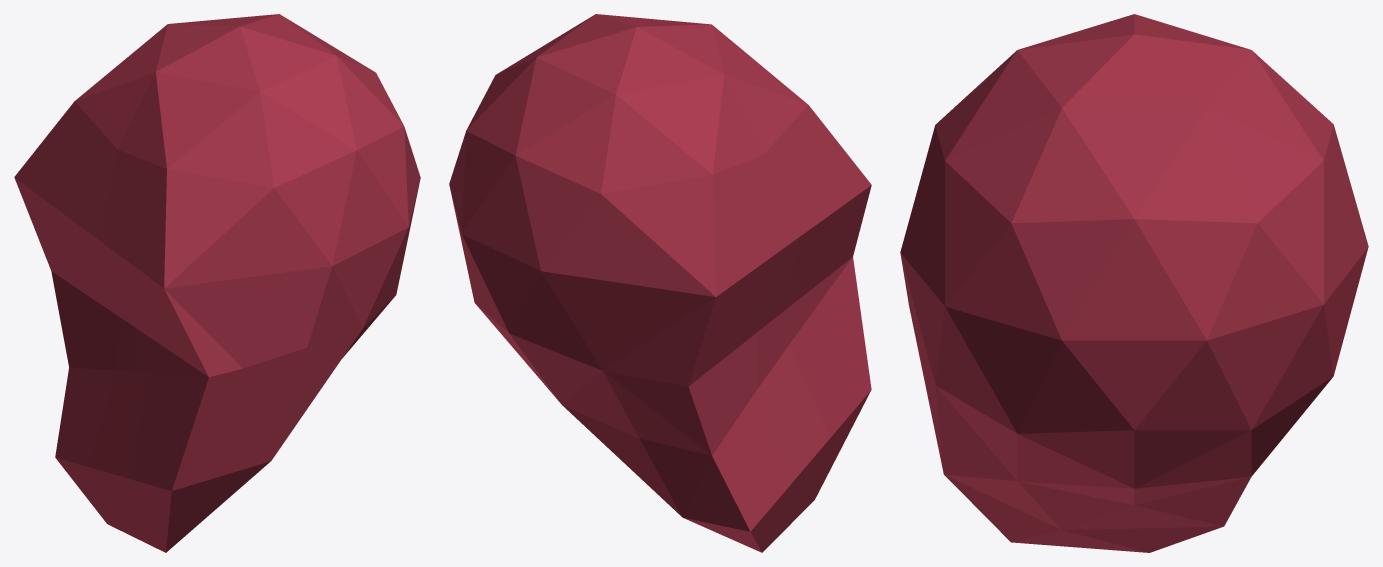
The model's file is Heart_Half.glb.
3 renders of one model, left to right at view 1: azimuth 30°, elevation 25°; view 2: azimuth 150°, elevation 25°; view 3: azimuth 270°, elevation 25°, orthographic. The views are drawn at different scales.
Visible parts, largest first — view 1: Heart_Half; view 2: Heart_Half; view 3: Heart_Half.
Boxes of the visible parts, <box> form: Heart_Half: <box>14,14,420,552</box>; Heart_Half: <box>449,14,871,552</box>; Heart_Half: <box>900,14,1368,552</box>.
Bounding box in the file's own units: 0.5426 × 0.8057 × 0.5728.
